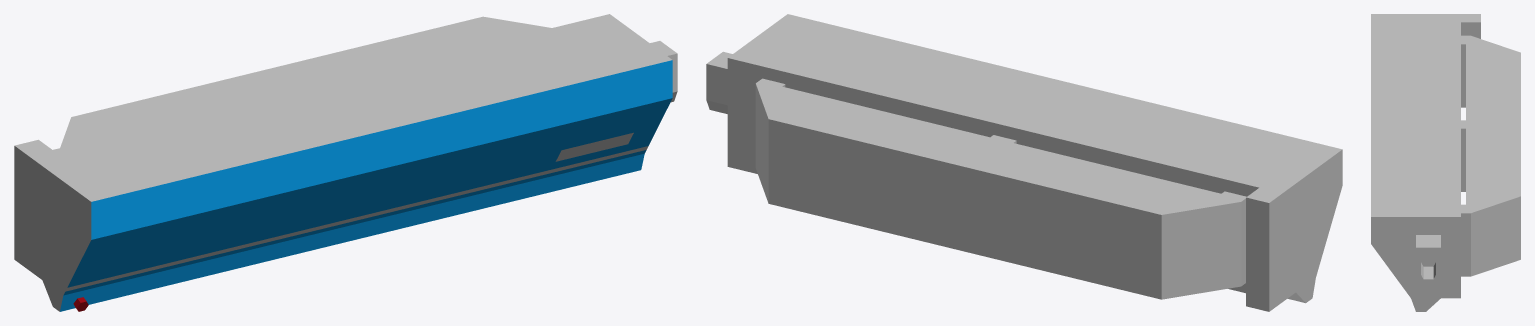
File: bar_feeder_5.dae
3 renders of one model, left to right at view 1: azimuth 30°, elevation 25°; view 2: azimuth 150°, elevation 25°; view 3: azimuth 270°, elevation 25°, orthographic. The views are drawn at different scales.
Parts seen in each view (by area): view 1: coords_ME_ID11_MA_material_6, coords_ME_ID53_MA_material_11, coords_ME_ID27_MA_material_11, coords_ME_ID59_MA_material_6, coords_ME_ID3_MA_material_8, coords_ME_ID35_MA_material_8, coords_ME_ID41_MA_material_11; view 2: coords_ME_ID27_MA_material_11, coords_ME_ID53_MA_material_11, coords_ME_ID41_MA_material_11; view 3: coords_ME_ID53_MA_material_11, coords_ME_ID27_MA_material_11, coords_ME_ID41_MA_material_11, coords_ME_ID47_MA_material_11.
Boxes of the visible parts, bbox=[...] form: coords_ME_ID11_MA_material_6: bbox=[67, 60, 672, 287]; coords_ME_ID53_MA_material_11: bbox=[14, 14, 671, 311]; coords_ME_ID27_MA_material_11: bbox=[60, 16, 551, 147]; coords_ME_ID59_MA_material_6: bbox=[60, 150, 646, 311]; coords_ME_ID3_MA_material_8: bbox=[65, 146, 648, 291]; coords_ME_ID35_MA_material_8: bbox=[555, 132, 633, 161]; coords_ME_ID41_MA_material_11: bbox=[650, 41, 677, 102]; coords_ME_ID27_MA_material_11: bbox=[755, 78, 1246, 299]; coords_ME_ID53_MA_material_11: bbox=[727, 14, 1342, 311]; coords_ME_ID41_MA_material_11: bbox=[706, 51, 732, 113]; coords_ME_ID53_MA_material_11: bbox=[1371, 14, 1480, 311]; coords_ME_ID27_MA_material_11: bbox=[1461, 35, 1520, 276]; coords_ME_ID41_MA_material_11: bbox=[1416, 235, 1440, 283]; coords_ME_ID47_MA_material_11: bbox=[1421, 252, 1435, 279].
Size of the model in its own units: 48.19 by 10.01 by 14.17.
